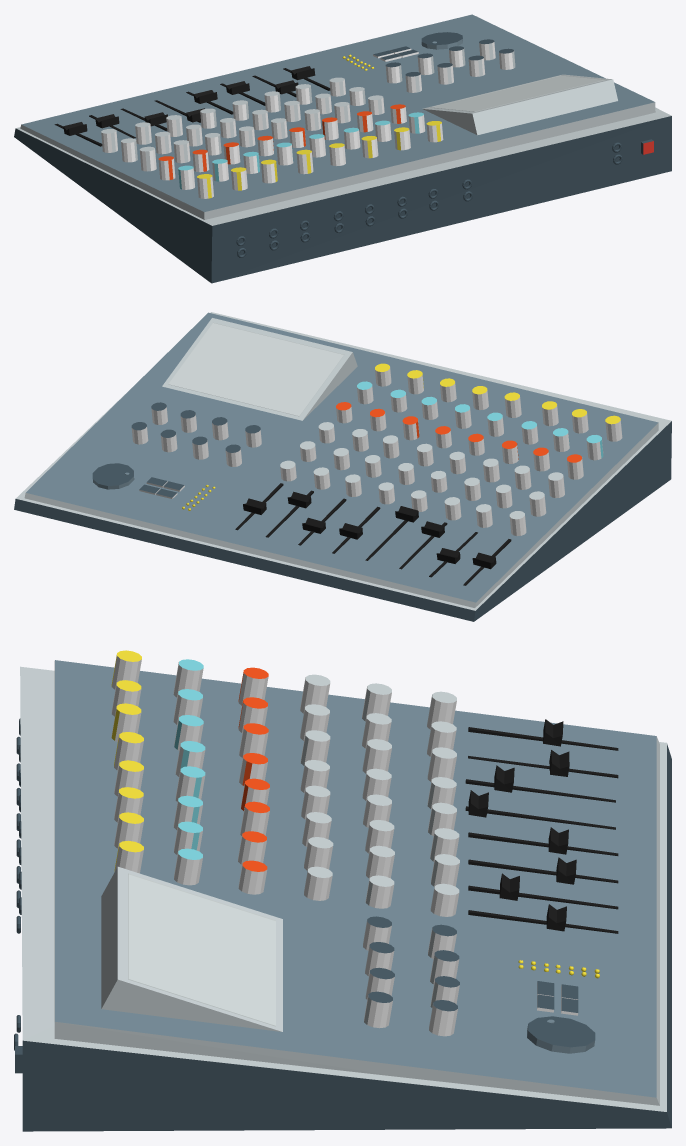
Rendered from Digital Audio Mixing Desk.glb.
3 renders of one model, top to bottom at view 1: azimuth 30°, elevation 25°; view 2: azimuth 150°, elevation 25°; view 3: azimuth 270°, elevation 25°, orthographic. The views are drawn at different scales.
Visible parts, largest first — view 1: group1044398291, group46021557, group1285066321, group79297576, group585407428; view 2: group1044398291, group46021557, group1285066321, group79297576, group585407428; view 3: group1044398291, group46021557, group1285066321, group79297576, group585407428, group1928956943, group1691023472, group604880534, group944311541, group1115758431, group916088644, group286128165 (+45 smaller).
Boxes of the visible parts, x1,y1,x2,y2 form: group1044398291: (20, 14, 655, 219); group46021557: (14, 16, 671, 283); group1285066321: (422, 74, 617, 135); group79297576: (430, 75, 605, 111); group585407428: (421, 32, 462, 49); group1044398291: (24, 312, 658, 607); group46021557: (14, 312, 671, 621); group1285066321: (162, 318, 357, 420); group79297576: (168, 323, 343, 415); group585407428: (92, 463, 134, 489); group1044398291: (54, 660, 659, 1105); group46021557: (20, 666, 671, 1131); group1285066321: (101, 866, 282, 1031); group79297576: (128, 873, 275, 1026); group585407428: (527, 1016, 595, 1053); group1928956943: (174, 848, 202, 885); group1691023472: (364, 991, 392, 1028); group604880534: (429, 1000, 457, 1036); group944311541: (304, 866, 332, 900); group1115758431: (238, 860, 267, 894); group916088644: (111, 650, 141, 689); group286128165: (173, 659, 203, 697).
Size of the model in its own units: 3.4 by 0.5584 by 2.56.
